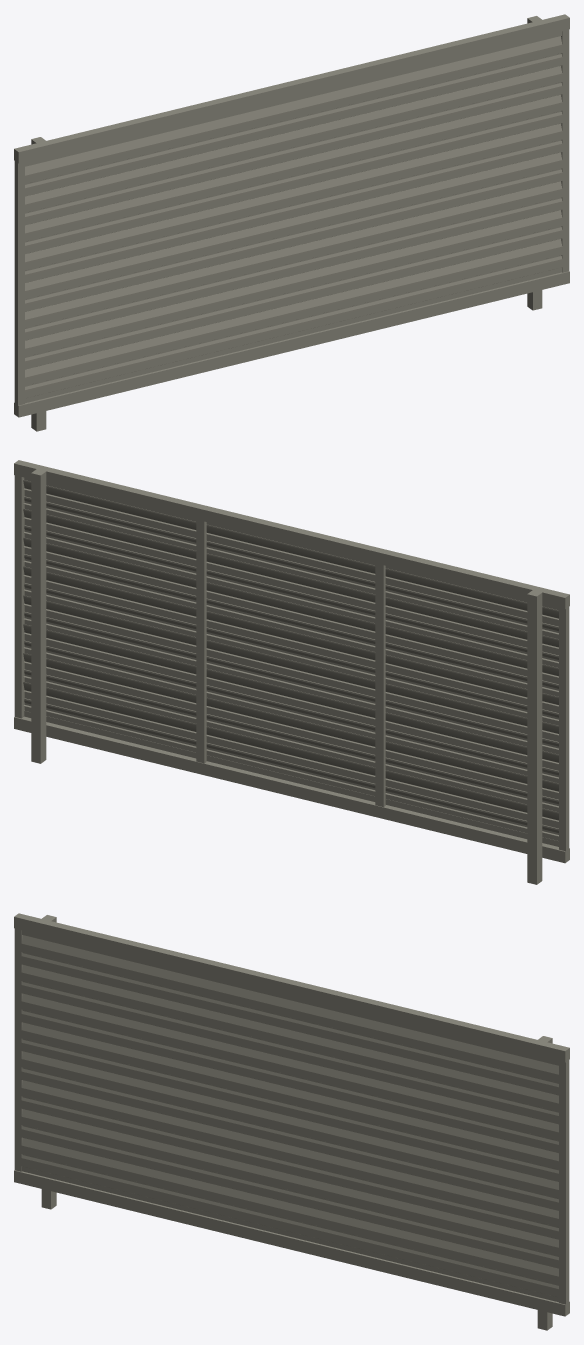
Rendered from eaf-yokolouver_h2010_stain.fbx.
The picture shows the model from 3 angles, top to bottom: view 1: azimuth 30°, elevation 25°; view 2: azimuth 150°, elevation 25°; view 3: azimuth 330°, elevation 25°; orthographic projection.
Parts seen in each view (by area): view 1: eaf-yokolouver_h2010_stain; view 2: eaf-yokolouver_h2010_stain; view 3: eaf-yokolouver_h2010_stain.
Part boxes in pixels (x1=…): eaf-yokolouver_h2010_stain: x1=14, y1=14, x2=569, y2=431; eaf-yokolouver_h2010_stain: x1=14, y1=460, x2=569, y2=884; eaf-yokolouver_h2010_stain: x1=14, y1=913, x2=569, y2=1330.
Bounding box in the file's own units: 200 × 100 × 6.5.
1 material, 1 textured.
